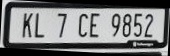character: (56, 12, 68, 38), (21, 12, 33, 37), (33, 12, 44, 38), (89, 12, 100, 38), (77, 12, 88, 37), (121, 13, 132, 37), (110, 12, 120, 37), (132, 12, 142, 37), (143, 13, 153, 37)
